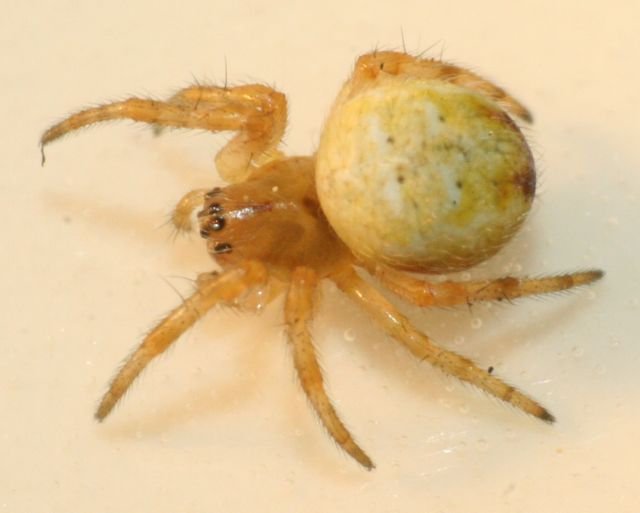spider: (22, 48, 614, 463)
